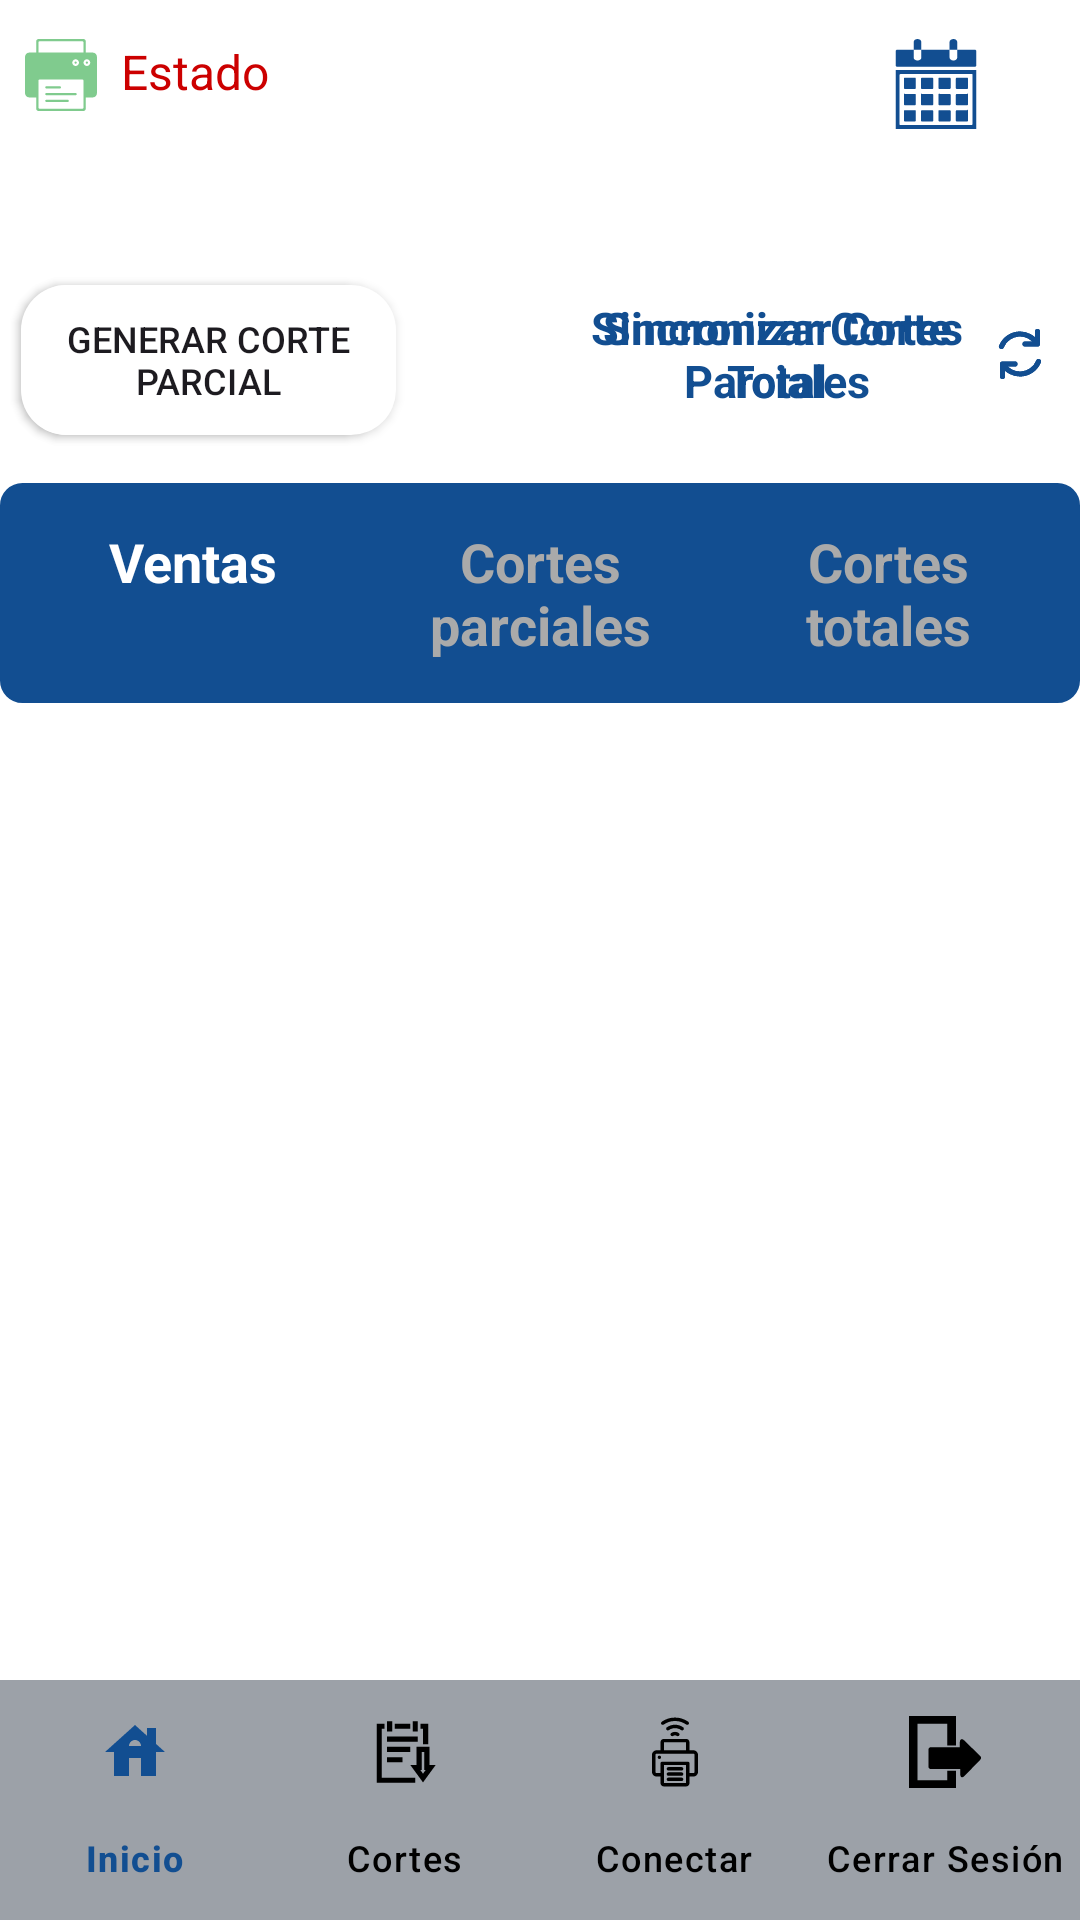

Icons on this 1080*1920 Android screen, each with its box as [x1,y1,x2,y2]:
Filtrar por fecha: [895,39,977,129]
print conected: [25,39,97,111]
